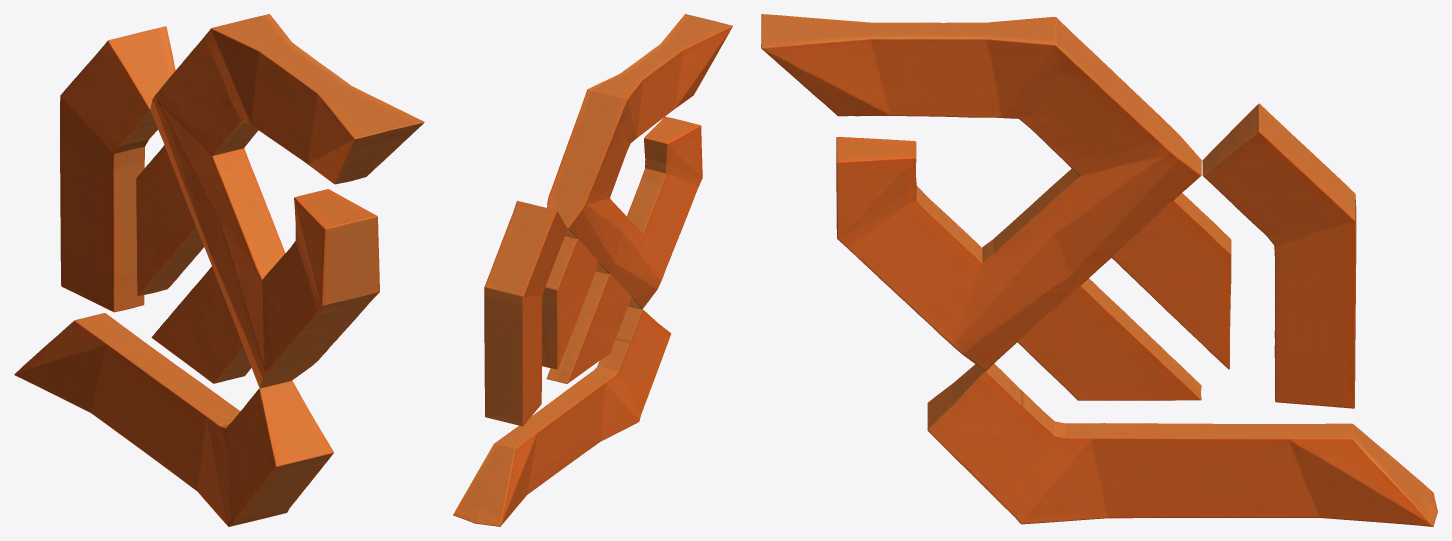
File: web-sockets.glb
3 views of the same model, side by side, from view 1: azimuth 30°, elevation 25°; view 2: azimuth 150°, elevation 25°; view 3: azimuth 270°, elevation 25° (orthographic). The views are drawn at different scales.
Visible parts, largest first — view 1: tripo_node_148cea58-cad3-42e2-a9c7-0becb6b6245d; view 2: tripo_node_148cea58-cad3-42e2-a9c7-0becb6b6245d; view 3: tripo_node_148cea58-cad3-42e2-a9c7-0becb6b6245d.
Boxes of the visible parts, box(x1,y1,x2,y2) form: tripo_node_148cea58-cad3-42e2-a9c7-0becb6b6245d: box(14, 14, 424, 526); tripo_node_148cea58-cad3-42e2-a9c7-0becb6b6245d: box(453, 14, 732, 526); tripo_node_148cea58-cad3-42e2-a9c7-0becb6b6245d: box(761, 14, 1437, 526).
Bounding box in the file's own units: 0.1185 × 0.7857 × 1.
Materials: 1 (1 with a texture image).
